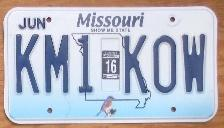0: (151, 33, 178, 94)
1: (73, 33, 98, 94)
K: (123, 33, 153, 95), (13, 32, 42, 95)
M: (43, 33, 72, 95)
W: (180, 32, 208, 96)
